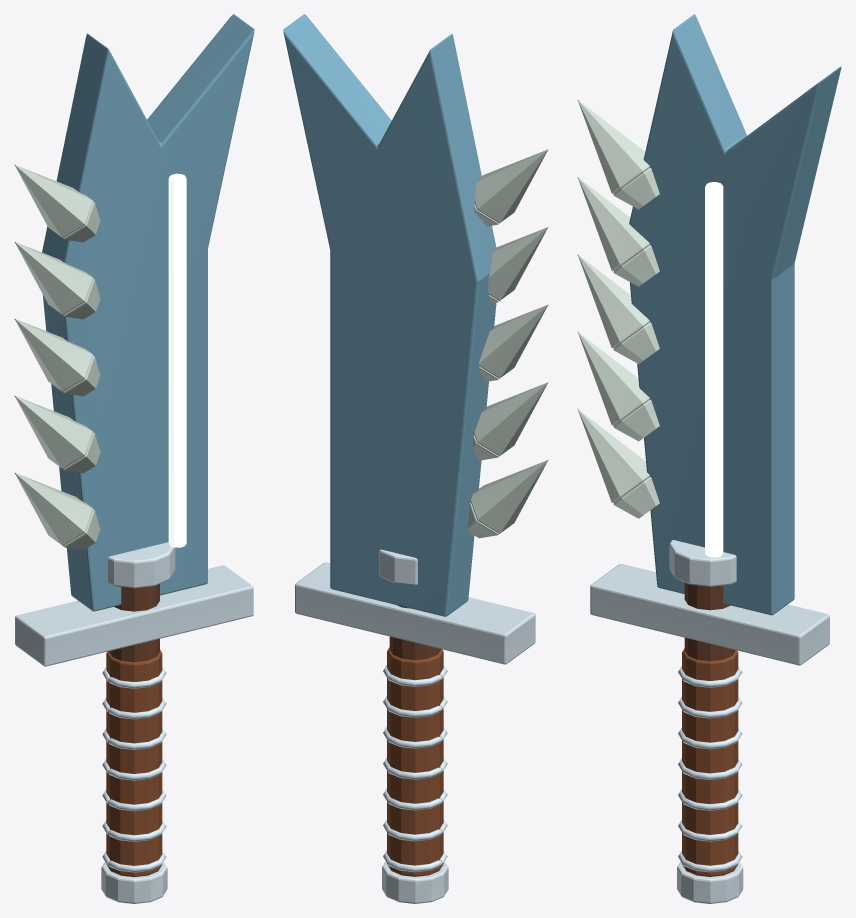
The model's file is item_005.glb.
3 views of the same model, side by side, from view 1: azimuth 30°, elevation 25°; view 2: azimuth 150°, elevation 25°; view 3: azimuth 330°, elevation 25° (orthographic).
Visible parts, largest first — view 1: Item_005_frost_saw; view 2: Item_005_frost_saw; view 3: Item_005_frost_saw.
Boxes of the visible parts, x1,y1,x2,y2 form: Item_005_frost_saw: (15,14,254,903); Item_005_frost_saw: (283,14,548,903); Item_005_frost_saw: (577,14,841,903).
Bounding box in the file's own units: 0.4592 × 1.55 × 0.1465.
